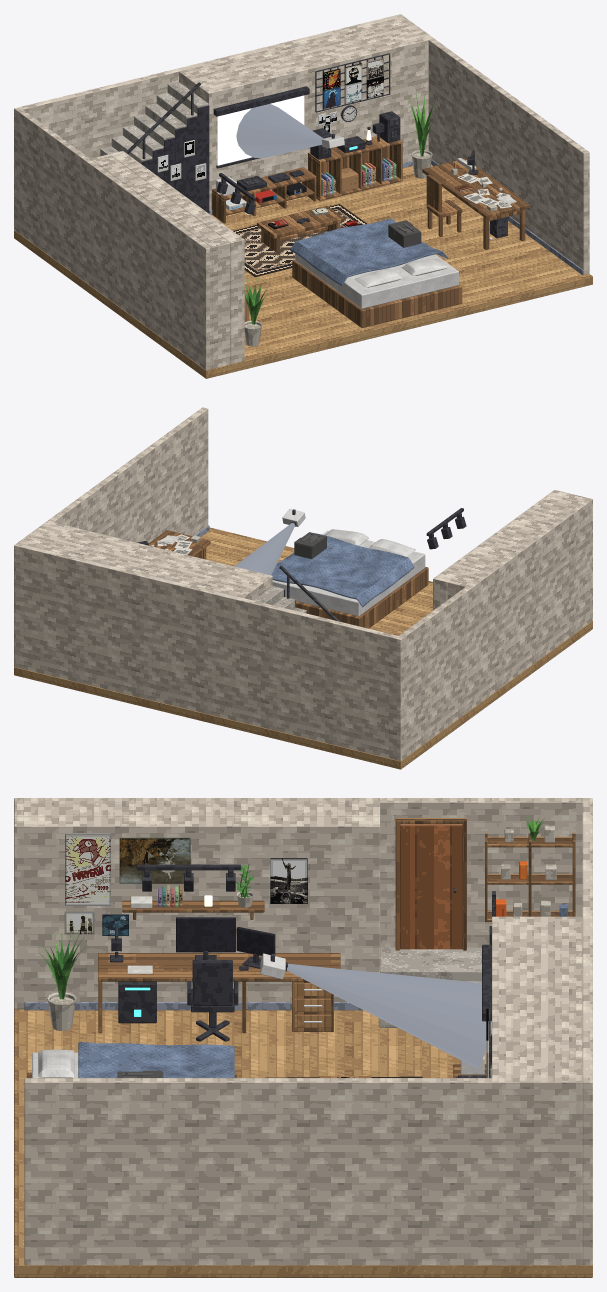
File: habitacion.glb
3 views of the same model, one above another, from view 1: azimuth 30°, elevation 25°; view 2: azimuth 150°, elevation 25°; view 3: azimuth 270°, elevation 25° (orthographic). The views are drawn at different scales.
Parts seen in each view (by area): view 1: WALL_WEST, FLOOR, WALL_EAST, STAIR_WALL_NORTH, WALL_NORTH, BLANKET_PROXY, WALL_WEST_GAP_FILL, WALL_WEST_INFILL, BED_FRAME_PROXY, MATTRESS_PROXY, PROJECTOR_BEAM, RUG_CENTER_01 (+19 smaller); view 2: WALL_NORTH, WALL_WEST, WALL_EAST, FLOOR, STAIR_WALL_NORTH, BLANKET_PROXY, WALL_WEST_GAP_FILL, WALL_WEST_INFILL, MATTRESS_PROXY, BED_FRAME_PROXY, PROJECTOR_BEAM, TABLE_EAST_TOP; view 3: WALL_EAST, WALL_WEST_INFILL, STAIR_WALL_NORTH, FLOOR, WALL_WEST, PROJECTOR_BEAM, DOOR_PROXY, WALL_WEST_GAP_FILL, WALL_NORTH, BLANKET_PROXY, DESK_TOP, POSTER_WEST_01 (+20 smaller).
Boxes of the visible parts, x1=… form: WALL_WEST: x1=14, y1=108, x2=211, y2=370; FLOOR: x1=14, y1=164, x2=592, y2=378; WALL_EAST: x1=399, y1=17, x2=589, y2=274; STAIR_WALL_NORTH: x1=179, y1=17, x2=433, y2=209; WALL_NORTH: x1=15, y1=14, x2=403, y2=158; BLANKET_PROXY: x1=290, y1=218, x2=448, y2=285; WALL_WEST_GAP_FILL: x1=91, y1=154, x2=230, y2=368; WALL_WEST_INFILL: x1=109, y1=151, x2=244, y2=364; BED_FRAME_PROXY: x1=292, y1=259, x2=462, y2=327; MATTRESS_PROXY: x1=295, y1=253, x2=458, y2=308; PROJECTOR_BEAM: x1=236, y1=104, x2=323, y2=157; RUG_CENTER_01: x1=233, y1=204, x2=367, y2=277; WALL_NORTH: x1=14, y1=543, x2=403, y2=759; WALL_WEST: x1=395, y1=498, x2=592, y2=761; WALL_EAST: x1=18, y1=407, x2=208, y2=544; FLOOR: x1=14, y1=527, x2=592, y2=769; STAIR_WALL_NORTH: x1=19, y1=522, x2=272, y2=600; BLANKET_PROXY: x1=271, y1=533, x2=414, y2=607; WALL_WEST_GAP_FILL: x1=447, y1=493, x2=586, y2=599; WALL_WEST_INFILL: x1=433, y1=490, x2=567, y2=610; MATTRESS_PROXY: x1=272, y1=530, x2=425, y2=616; BED_FRAME_PROXY: x1=296, y1=567, x2=428, y2=628; PROJECTOR_BEAM: x1=234, y1=523, x2=295, y2=575; TABLE_EAST_TOP: x1=148, y1=530, x2=210, y2=555; WALL_EAST: x1=24, y1=1078, x2=582, y2=1265; WALL_WEST_INFILL: x1=14, y1=816, x2=380, y2=1009; STAIR_WALL_NORTH: x1=492, y1=916, x2=582, y2=1265; FLOOR: x1=14, y1=1009, x2=592, y2=1277; WALL_WEST: x1=14, y1=798, x2=592, y2=947; PROJECTOR_BEAM: x1=287, y1=963, x2=491, y2=1068; DOOR_PROXY: x1=400, y1=824, x2=462, y2=949; WALL_WEST_GAP_FILL: x1=14, y1=802, x2=380, y2=816; WALL_NORTH: x1=582, y1=798, x2=592, y2=1265; BLANKET_PROXY: x1=78, y1=1042, x2=234, y2=1077; DESK_TOP: x1=98, y1=953, x2=340, y2=981; POSTER_WEST_01: x1=65, y1=833, x2=110, y2=905.
Bounding box in the file's own units: 9.65 × 3.4 × 8.3.
Materials: 91 (87 with a texture image).
